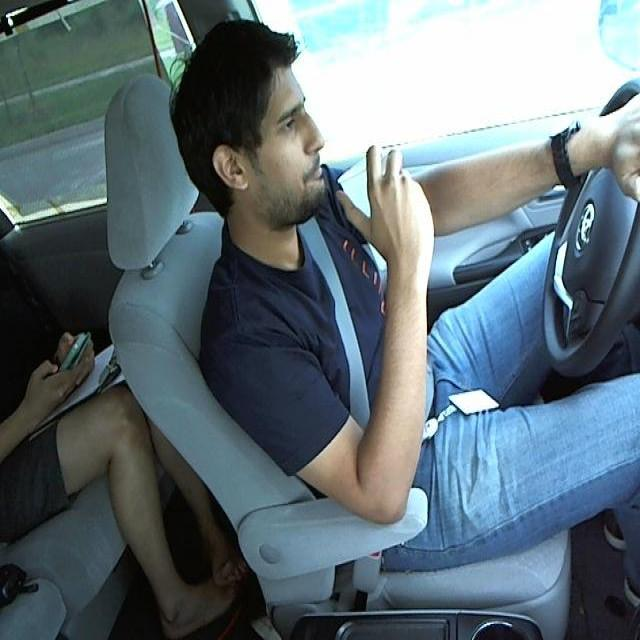drinking: (339, 147, 416, 262)
